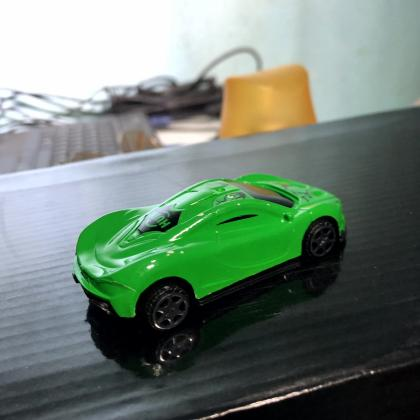Car: (66, 167, 354, 334)
